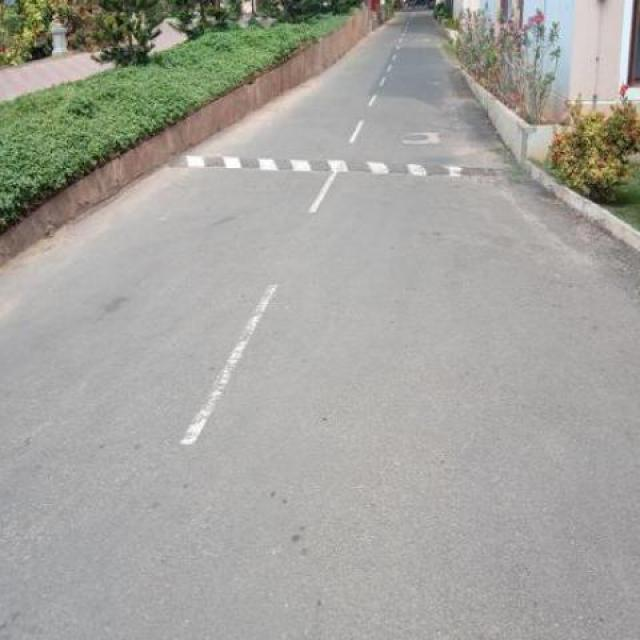Speed Bump: (162, 150, 532, 177)
